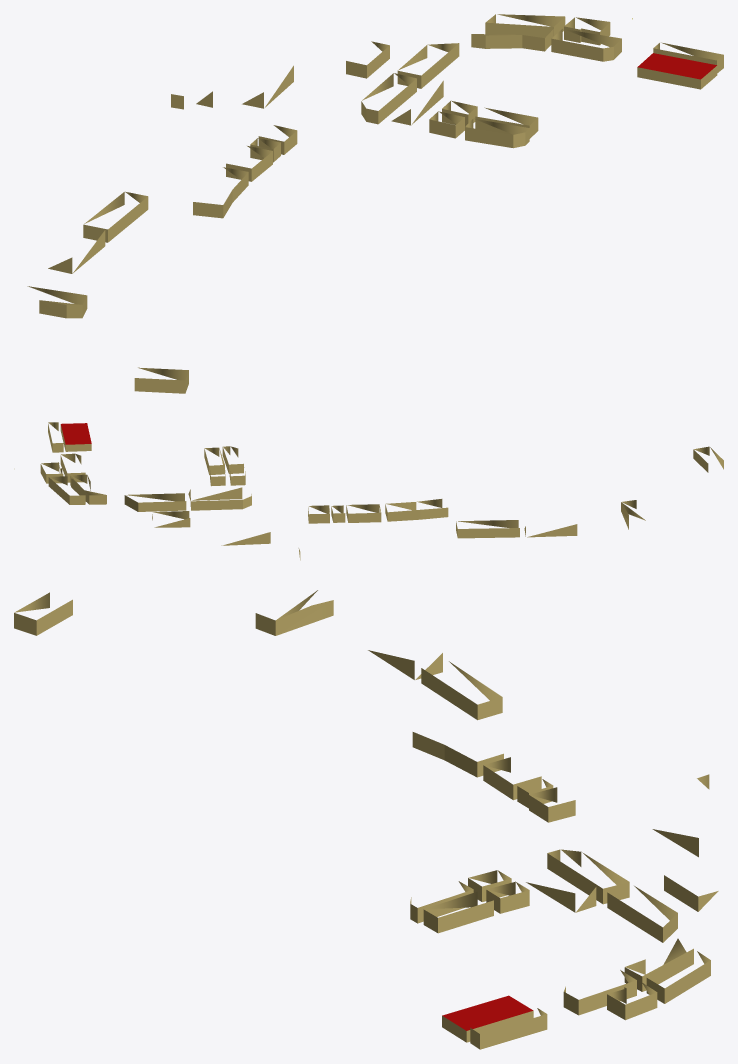
3 renders of one model, top to bottom at view 1: azimuth 30°, elevation 25°; view 2: azimuth 150°, elevation 25°; view 3: azimuth 270°, elevation 25°, orthographic. The views are drawn at different scales.
Size of the model in its own units: 610 by 12.5 by 412.
